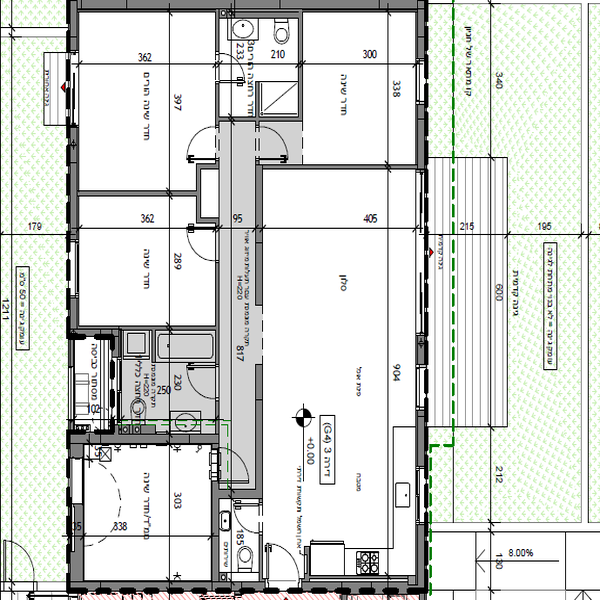door: (264, 534, 301, 588), (211, 444, 251, 489), (178, 124, 220, 164), (183, 224, 225, 263), (182, 364, 226, 401), (255, 125, 293, 164), (230, 498, 266, 536), (216, 53, 248, 87)
room: (69, 2, 219, 195), (69, 431, 225, 590), (297, 2, 432, 170), (64, 194, 221, 330)
wall: (71, 1, 427, 11), (73, 579, 267, 594), (68, 429, 215, 446), (253, 163, 425, 172), (254, 364, 265, 498), (67, 123, 79, 240), (257, 158, 265, 307), (69, 504, 84, 580), (416, 525, 429, 592), (68, 191, 195, 197), (413, 2, 425, 62), (418, 105, 427, 169), (417, 410, 427, 467), (217, 488, 258, 498)
window: (416, 171, 429, 335), (413, 65, 429, 103), (67, 241, 79, 289), (417, 370, 428, 413), (417, 370, 427, 412)
